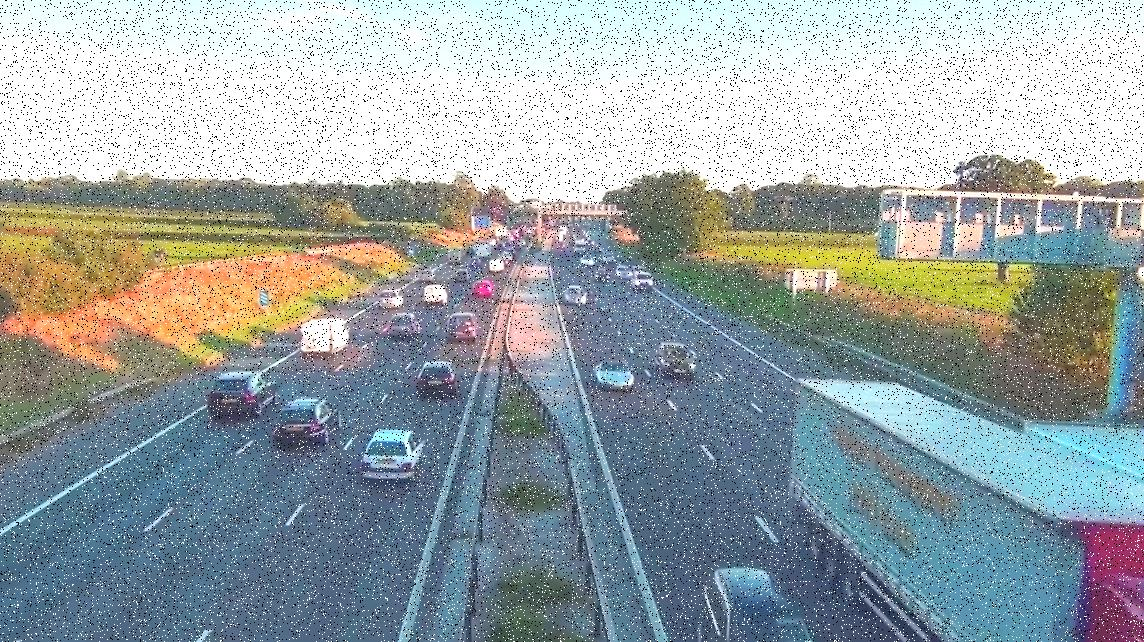car: (697, 561, 835, 642), (362, 429, 424, 486), (208, 374, 272, 421), (273, 398, 340, 436), (299, 315, 351, 356), (415, 360, 458, 398), (657, 343, 700, 381), (594, 361, 637, 391), (441, 313, 475, 343), (382, 314, 419, 339), (563, 285, 587, 306), (422, 286, 448, 305), (631, 272, 655, 292), (375, 290, 400, 308), (475, 281, 497, 298), (593, 269, 612, 281)
truck: (783, 377, 1144, 642)
